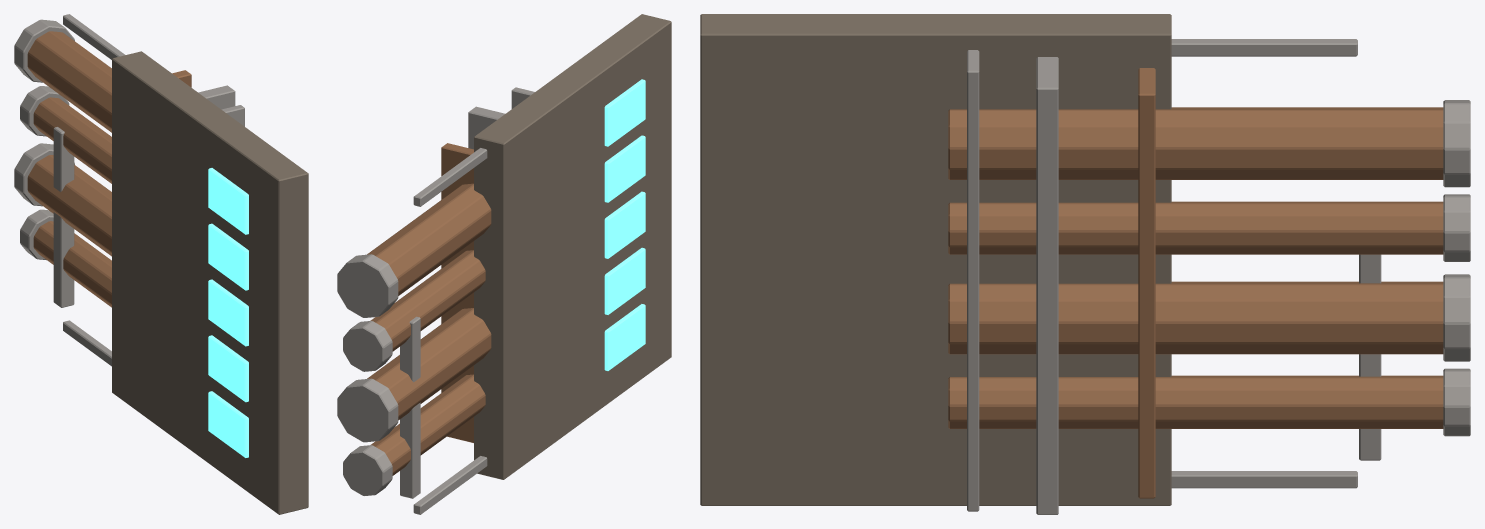
Rendered from facade_pipe_r.glb.
The picture shows the model from 3 angles, left to right: view 1: azimuth 30°, elevation 25°; view 2: azimuth 150°, elevation 25°; view 3: azimuth 270°, elevation 25°; orthographic projection. The views are drawn at different scales.
Parts seen in each view (by area): view 1: FacadePipe_R; view 2: FacadePipe_R; view 3: FacadePipe_R.
Boxes of the visible parts, <box> form: FacadePipe_R: <box>14,14,308,514</box>; FacadePipe_R: <box>337,14,671,514</box>; FacadePipe_R: <box>700,14,1470,514</box>.
Size of the model in its own units: 1.05 by 4.2 by 6.21.
